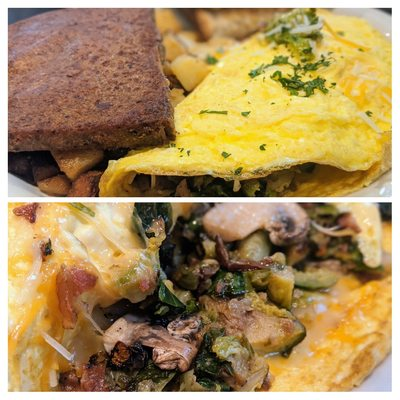soup: (8, 9, 177, 184)
